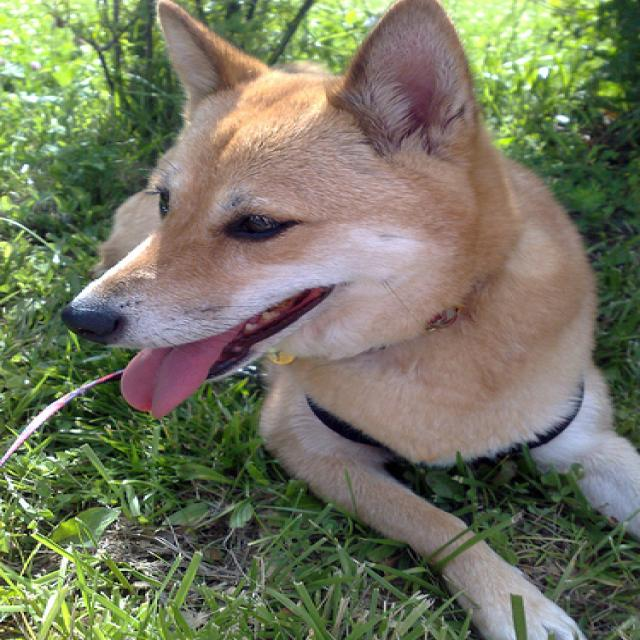dog: (58, 0, 476, 417)
